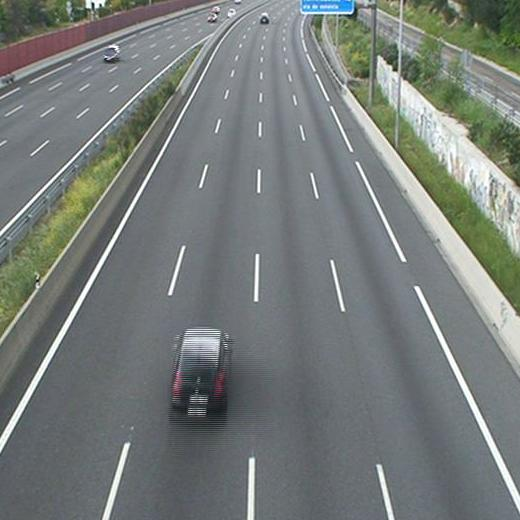car: (172, 327, 232, 419)
